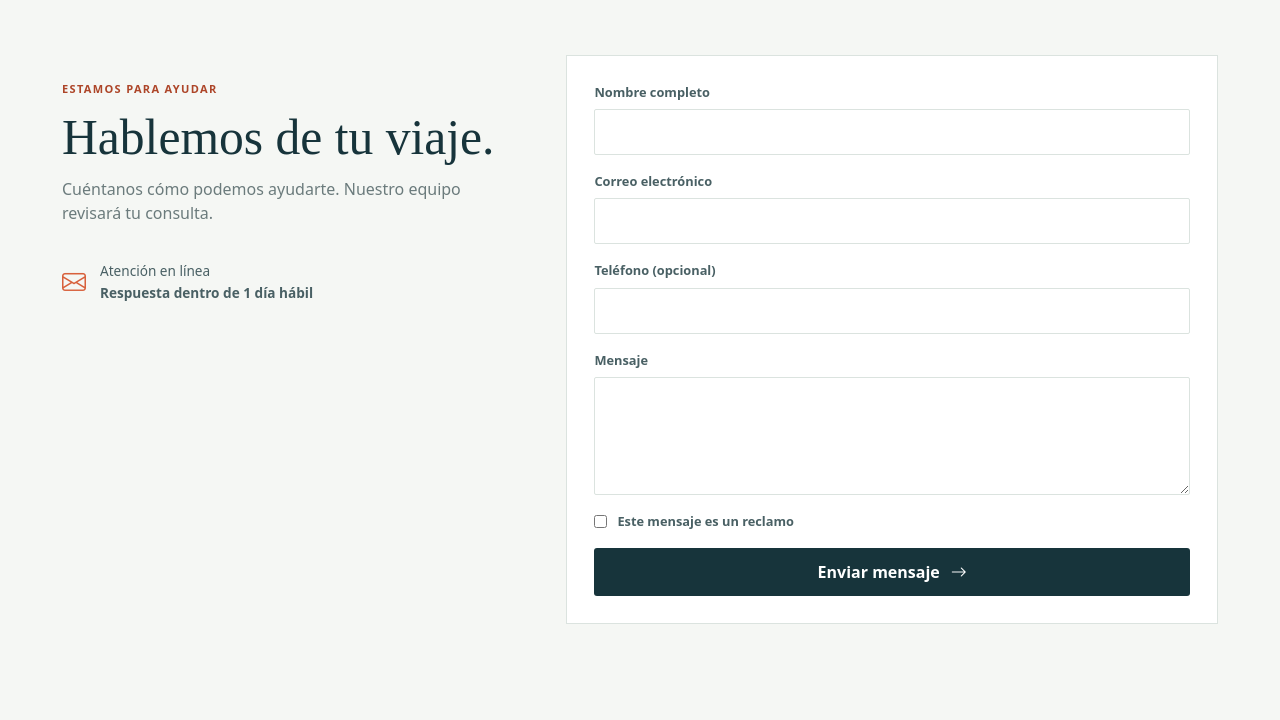
Test: ServicePage › envía el formulario de contacto y muestra la confirmación
The width and height of the screenshot is (1280, 720).
In the field labelled "Nombre completo": (892, 132) top-left (594, 109), bottom-right (1190, 155), type "Ana Pérez"
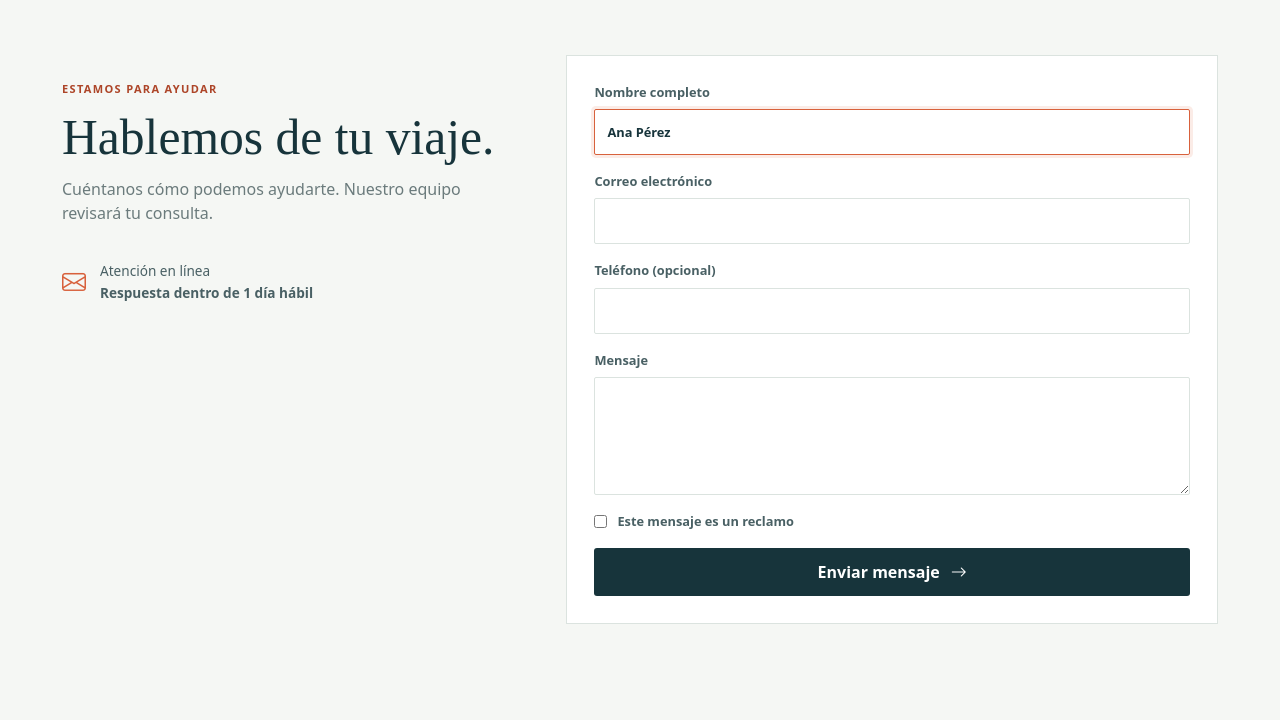
In the field labelled "Correo electrónico": (892, 221) top-left (594, 198), bottom-right (1190, 244), type "ana@example.com"
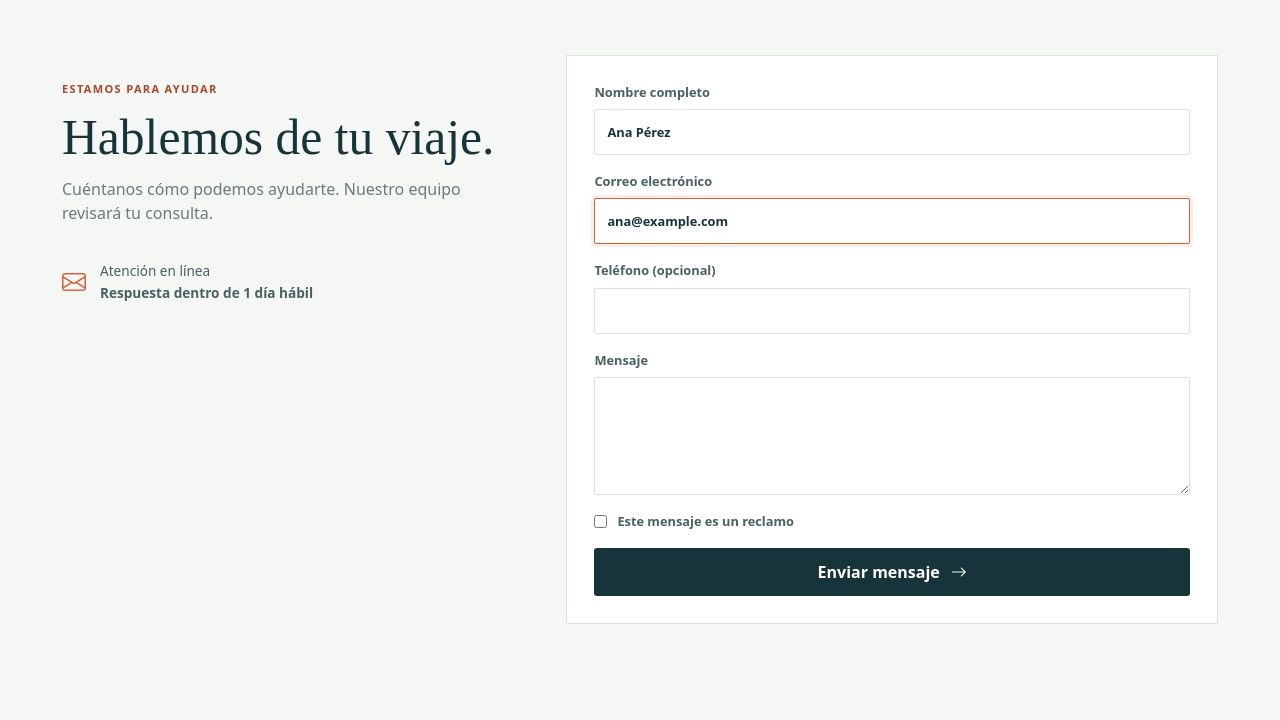
In the field labelled "Teléfono (opcional)": (892, 311) top-left (594, 288), bottom-right (1190, 334), type "912345678"
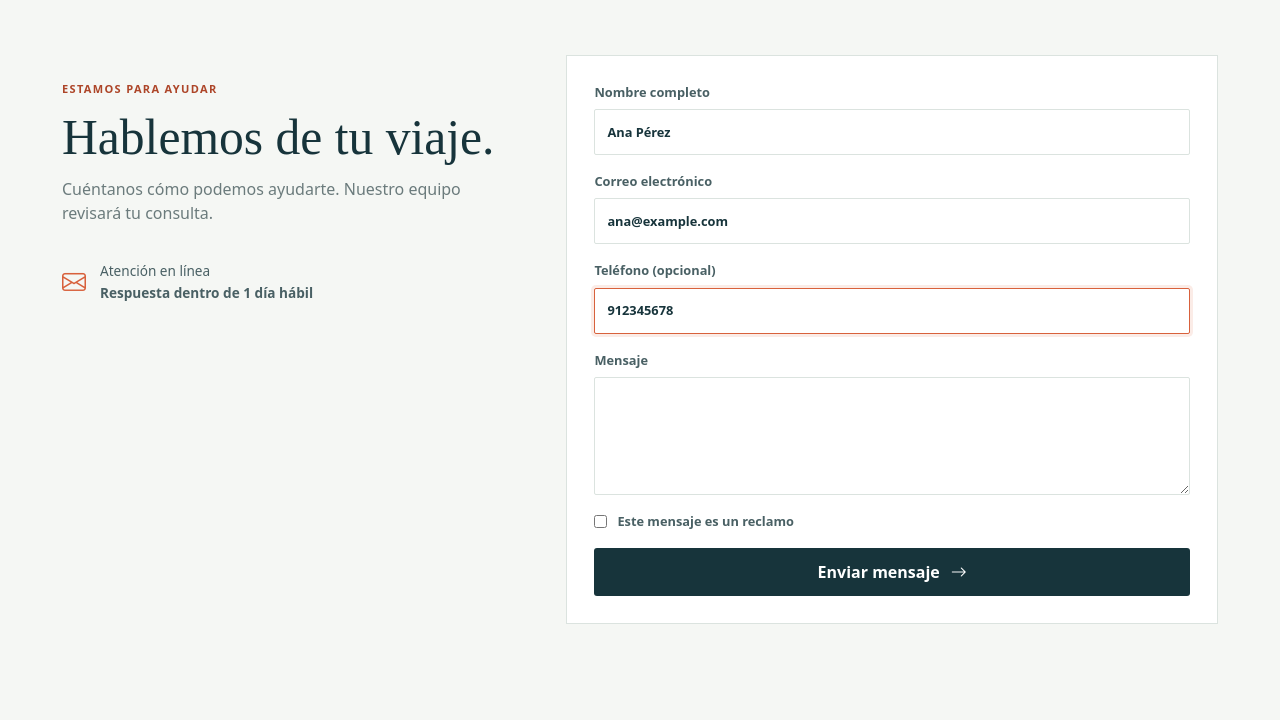
In the text box labelled "Mensaje": (892, 436) top-left (594, 377), bottom-right (1190, 495), type "Necesito información de una ruta."
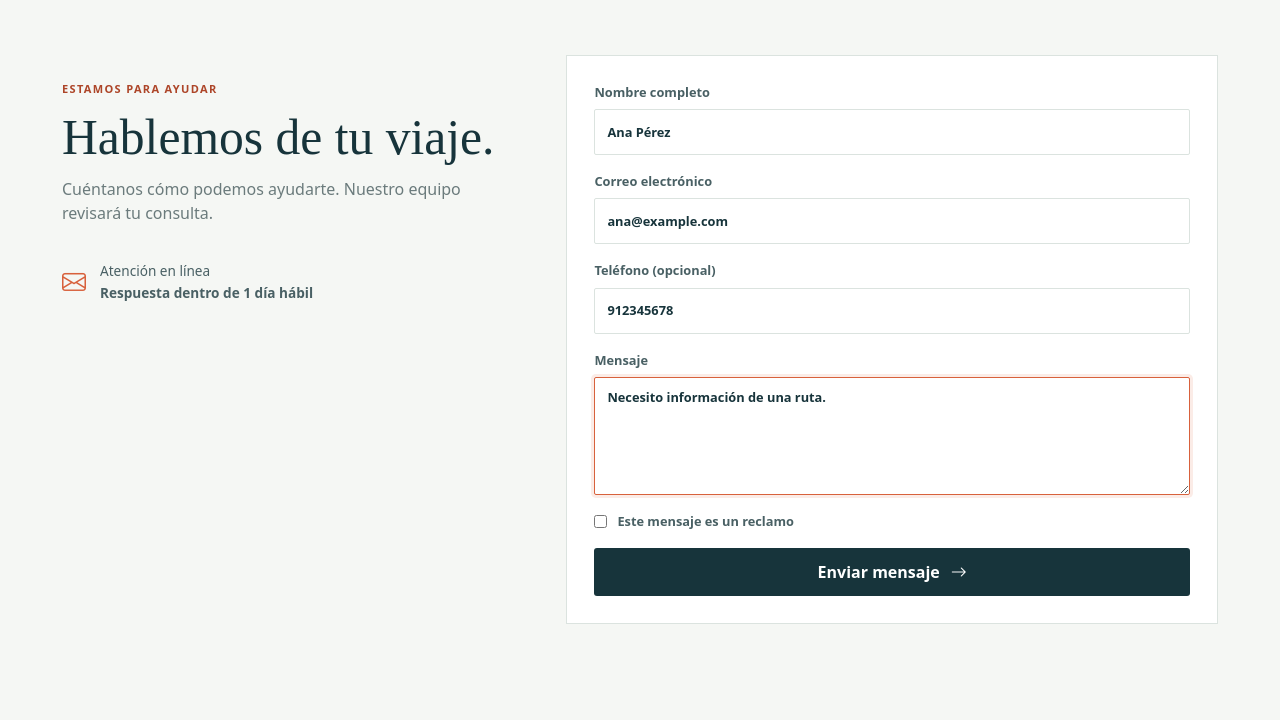
Click the button "Enviar mensaje": (892, 572) top-left (594, 548), bottom-right (1190, 596)
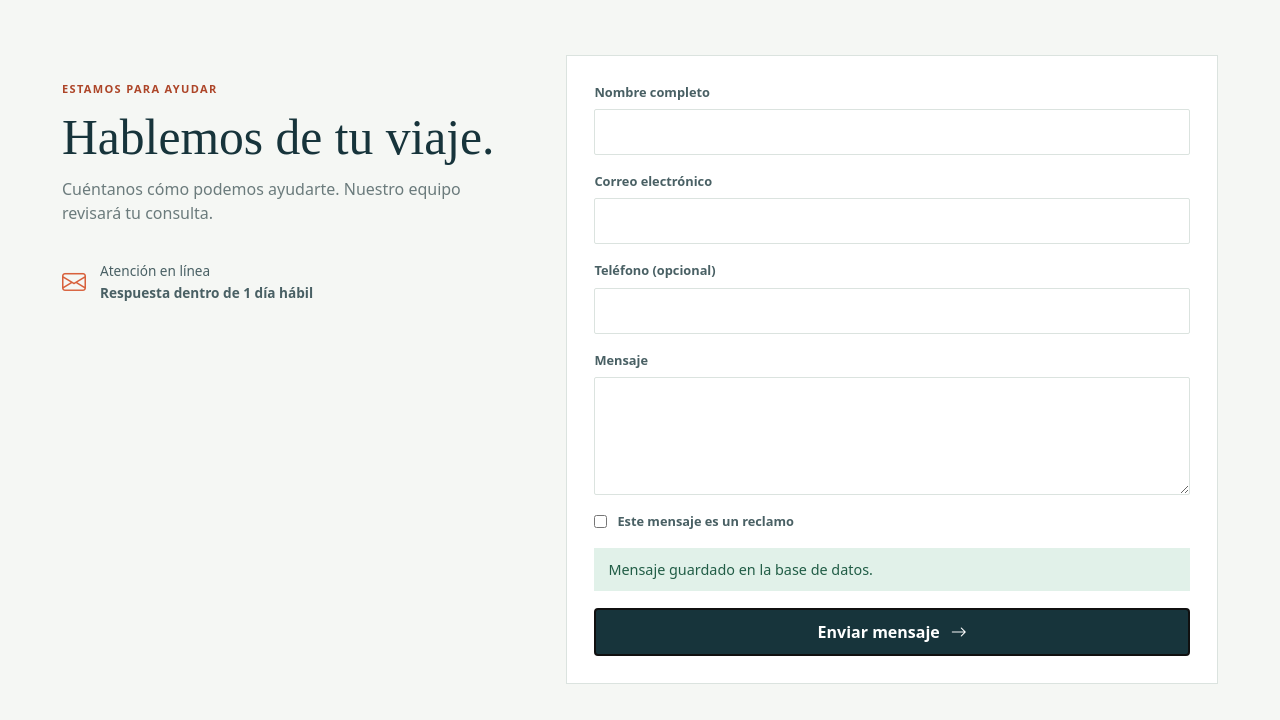
Expected: the message shows "Mensaje guardado", top-left (608, 560), bottom-right (873, 579)
